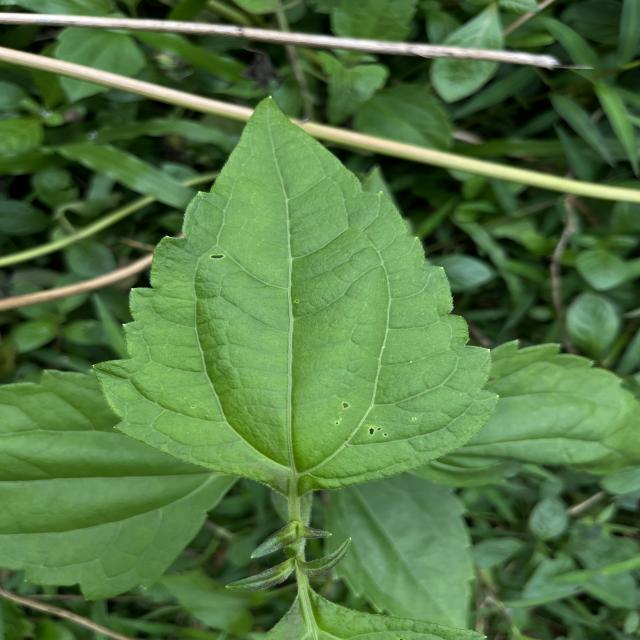Chromolaena odorata: (84, 90, 503, 502)
